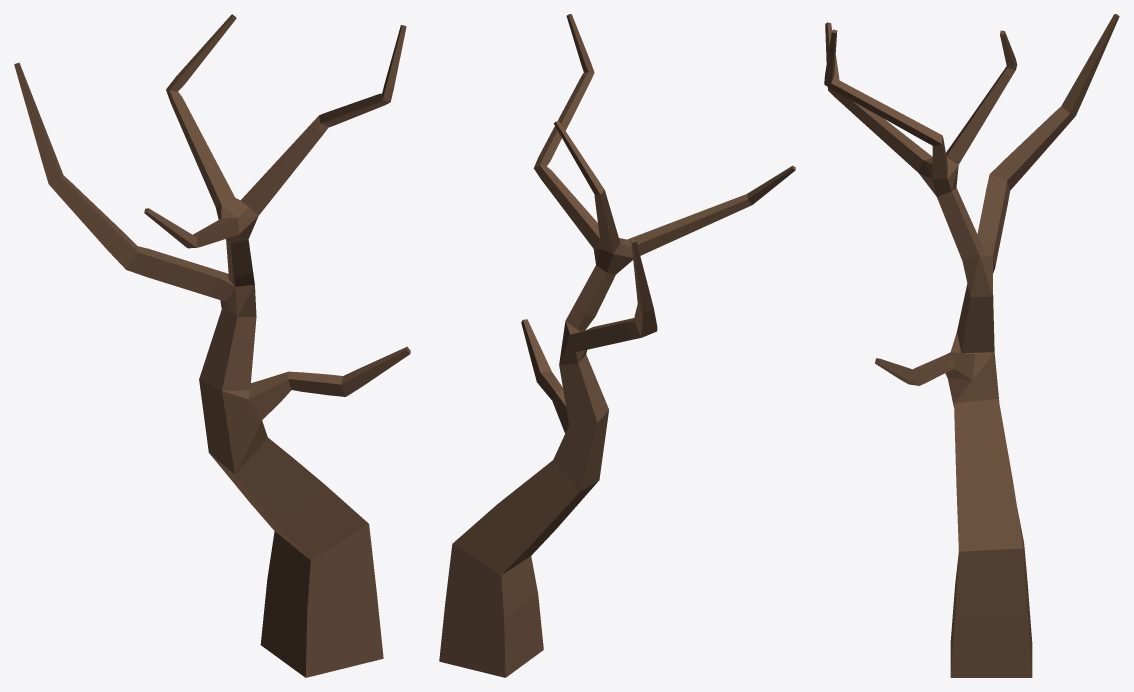
File: dead_tree2.glb
3 views of the same model, side by side, from view 1: azimuth 30°, elevation 25°; view 2: azimuth 150°, elevation 25°; view 3: azimuth 270°, elevation 25° (orthographic). The views are drawn at different scales.
Visible parts, largest first — view 1: Cube.003; view 2: Cube.003; view 3: Cube.003.
Boxes of the visible parts, x1,y1,x2,y2 form: Cube.003: [14, 14, 410, 677]; Cube.003: [439, 14, 795, 677]; Cube.003: [824, 14, 1119, 677].
Bounding box in the file's own units: 4.07 × 8.76 × 3.74.
